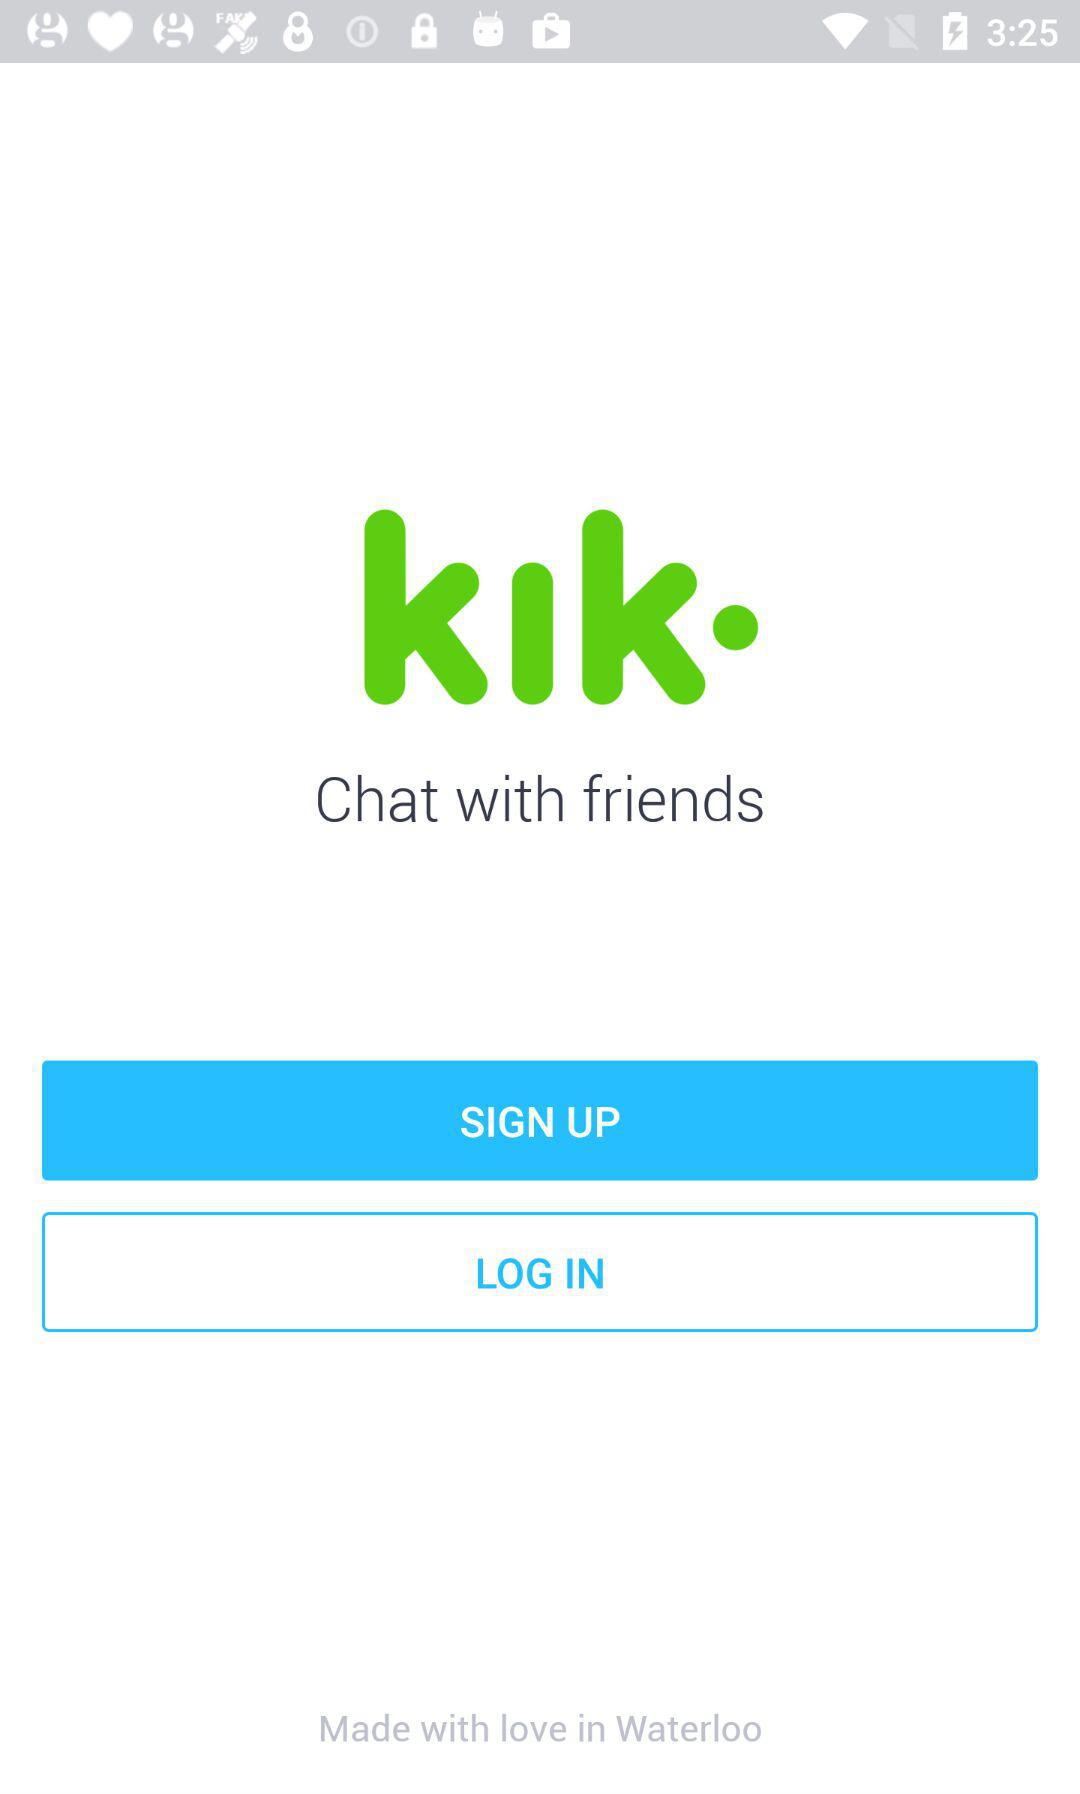Image: (363, 507, 761, 707)
Text: (318, 774, 764, 824), (320, 1712, 764, 1744)
TextButton: (42, 1060, 1038, 1181), (42, 1212, 1039, 1333)
UpperTaskBar: (1, 1, 1080, 64)
